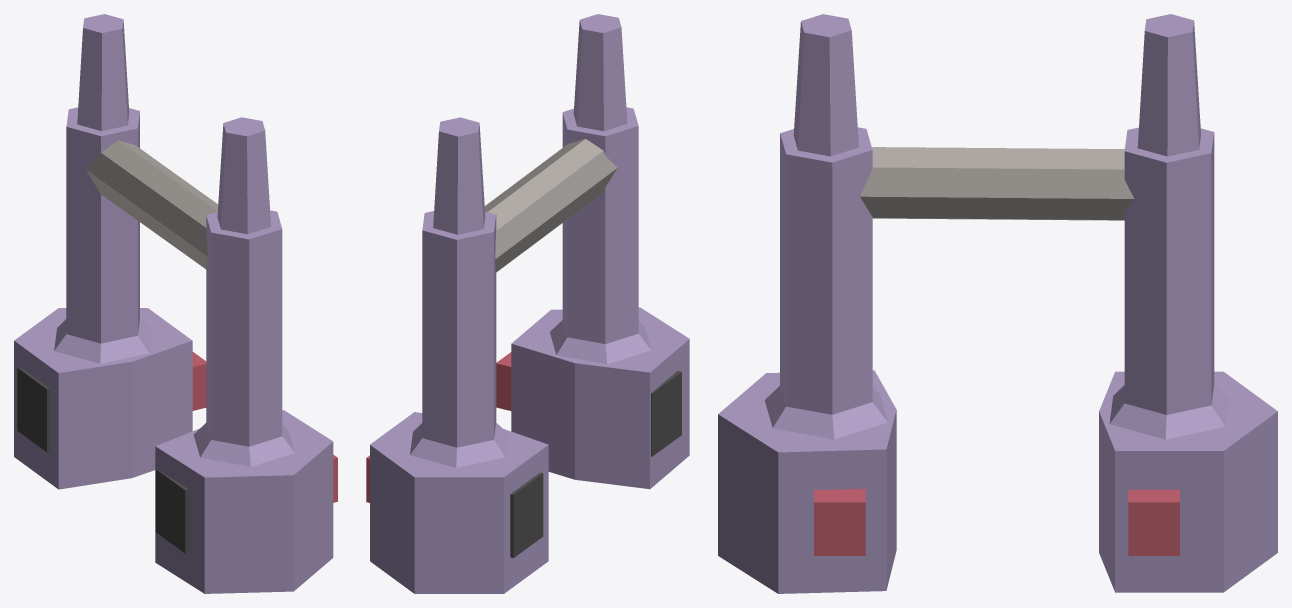
File: door.fbx
The picture shows the model from 3 angles, left to right: view 1: azimuth 30°, elevation 25°; view 2: azimuth 150°, elevation 25°; view 3: azimuth 270°, elevation 25°; orthographic projection. The views are drawn at different scales.
Visible parts, largest first — view 1: Circle.001, Circle, Circle.002, Plane.004, Plane.003, Cube.001; view 2: Circle, Circle.001, Circle.002, Plane.003, Plane.004, Cube; view 3: Circle.001, Circle, Circle.002, Cube.001, Cube.
Part boxes in pixels (x1=…): Circle.001: x1=155, y1=117, x2=333, y2=593; Circle: x1=14, y1=14, x2=192, y2=489; Circle.002: x1=86, y1=140, x2=218, y2=269; Plane.004: x1=155, y1=468, x2=189, y2=553; Plane.003: x1=17, y1=367, x2=50, y2=452; Cube.001: x1=192, y1=352, x2=206, y2=410; Circle: x1=370, y1=117, x2=548, y2=593; Circle.001: x1=511, y1=14, x2=689, y2=489; Circle.002: x1=484, y1=139, x2=617, y2=272; Plane.003: x1=510, y1=472, x2=543, y2=557; Plane.004: x1=651, y1=371, x2=681, y2=456; Cube: x1=496, y1=352, x2=511, y2=410; Circle.001: x1=718, y1=14, x2=896, y2=593; Circle: x1=1099, y1=14, x2=1277, y2=592; Circle.002: x1=860, y1=147, x2=1134, y2=220; Cube.001: x1=1128, y1=489, x2=1179, y2=555; Cube: x1=814, y1=488, x2=865, y2=555.
Size of the model in its own units: 125 by 326 by 314.
